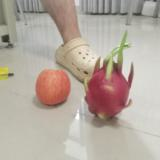apple: (36, 69, 70, 107)
pitaya: (85, 51, 133, 119)
